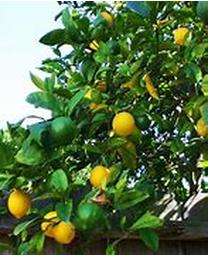lemon: (73, 203, 106, 236), (48, 116, 77, 148), (8, 190, 32, 218), (111, 113, 137, 137), (52, 221, 77, 244), (88, 165, 112, 188)
